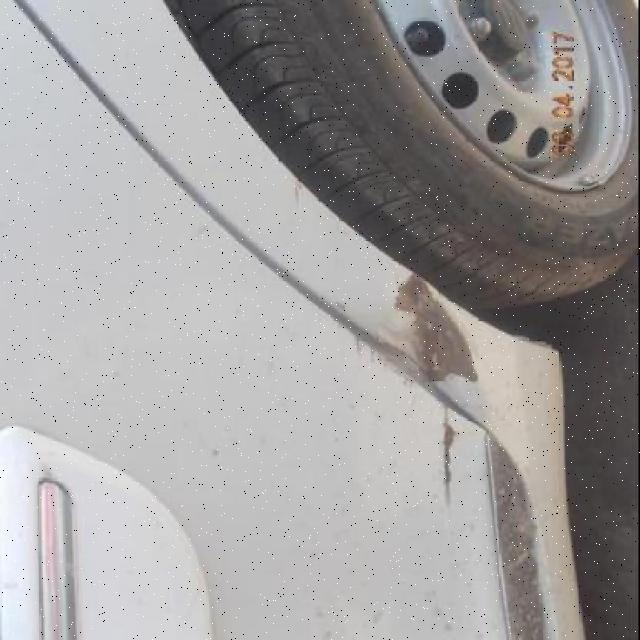damage: (354, 273, 484, 388), (429, 403, 463, 507)
